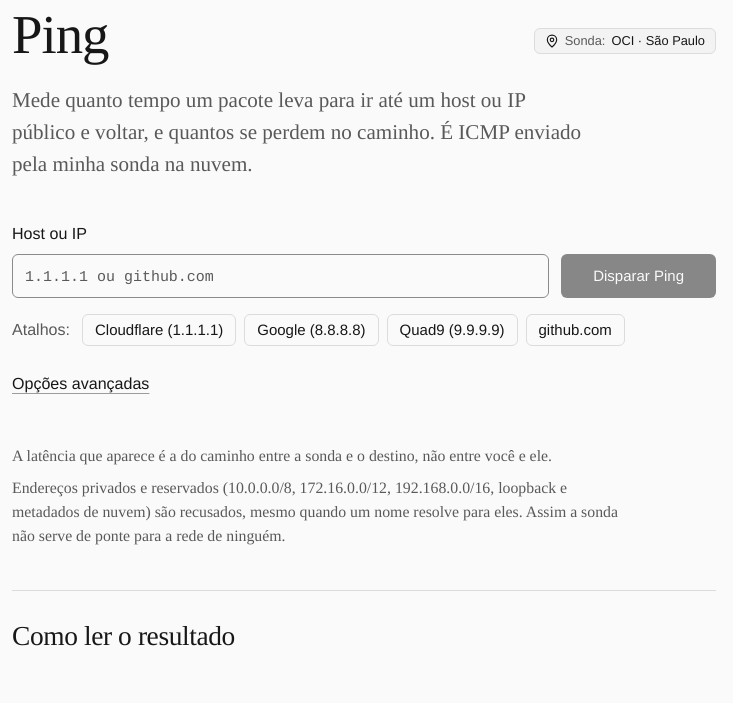
Test: Ping (comportamento) › a primeira coisa do resultado é o veredicto: respondendo
Type "example.com" into the field at x=281, y=276, box [12,254,549,298]
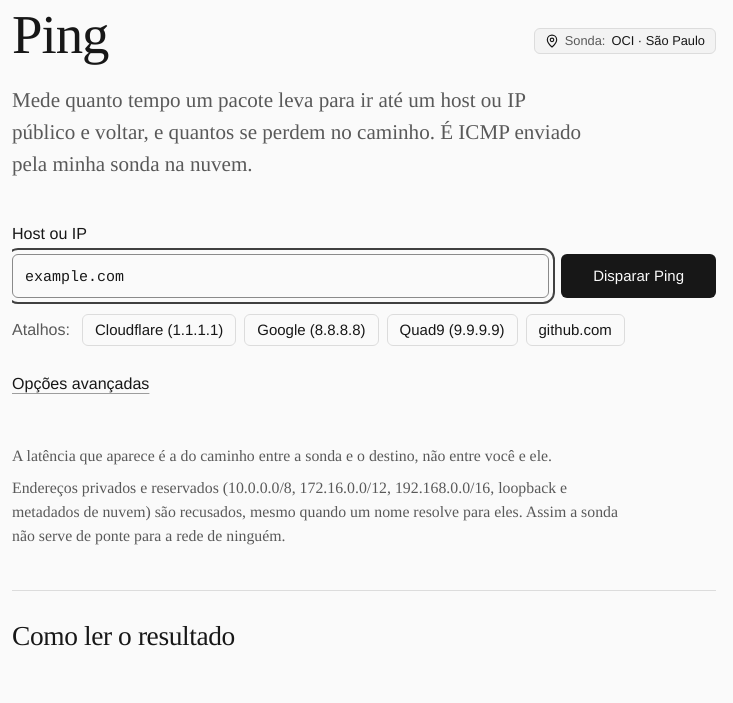
Click the button "Disparar Ping" at x=639, y=276, box [561,254,716,298]
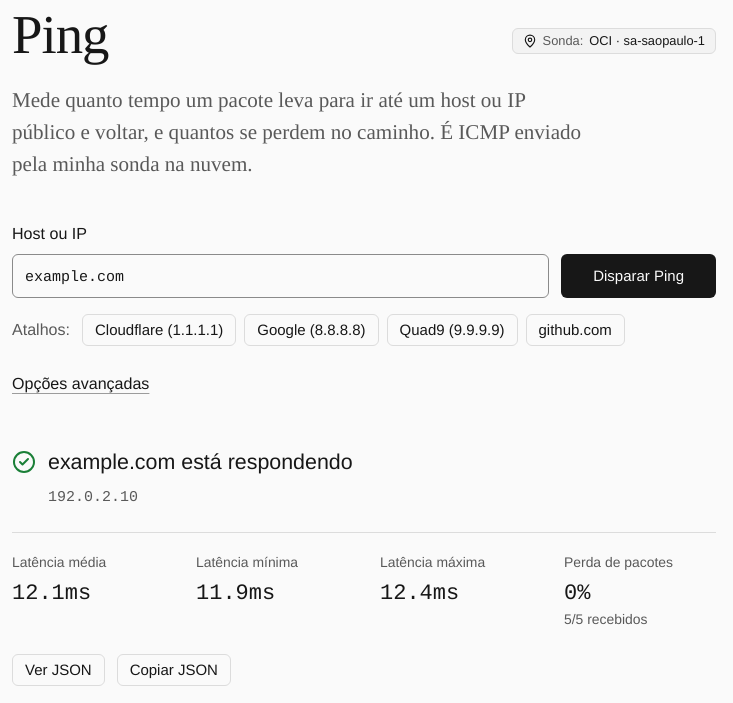
Check: the heading "example.com está respondendo" does not show "perda", box [48,446,353,478]
Check: the heading "example.com está respondendo" is shown, box [48,446,353,478]
